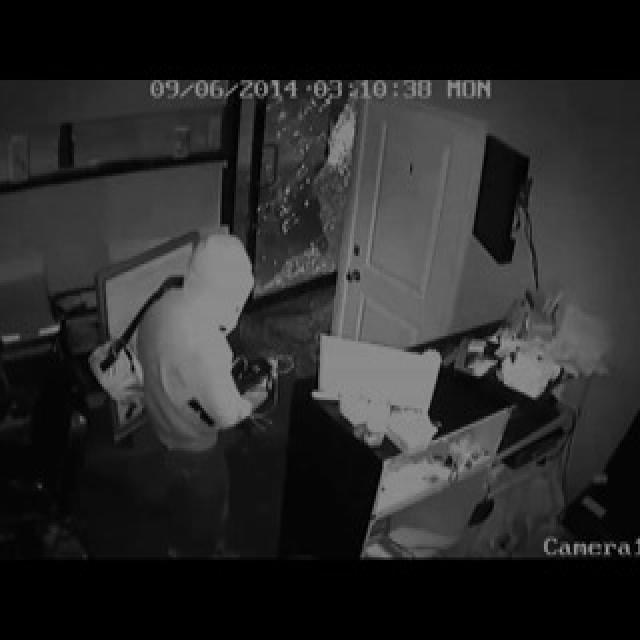thief: (92, 232, 272, 446)
